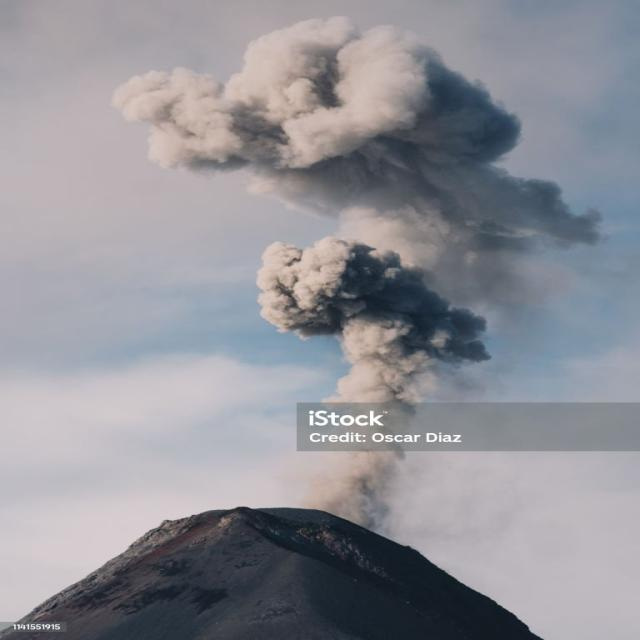Smoke: (109, 16, 606, 403)
